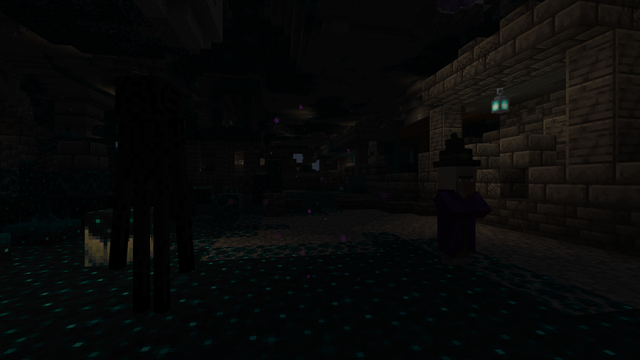endermens: (109, 64, 185, 326)
sorcieres: (432, 161, 480, 267)
squelettes: (368, 141, 377, 158)
